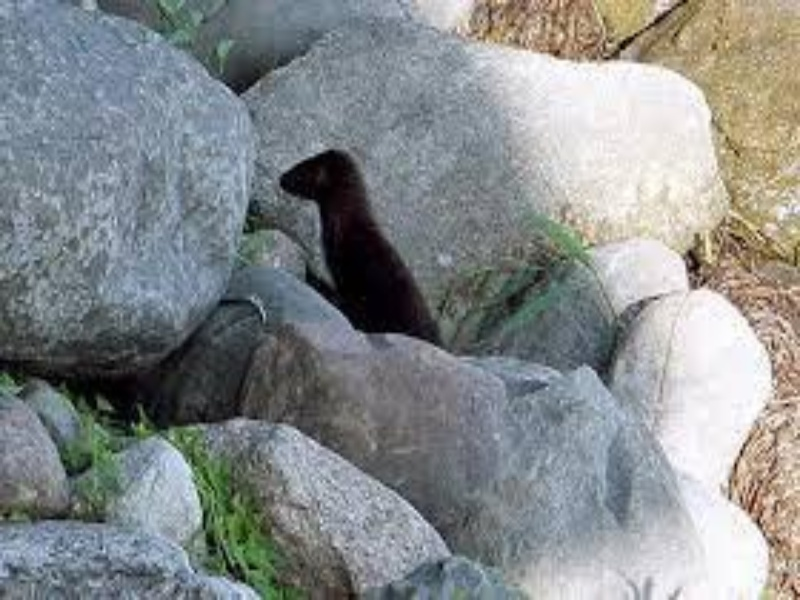minkish: (278, 147, 447, 354)
